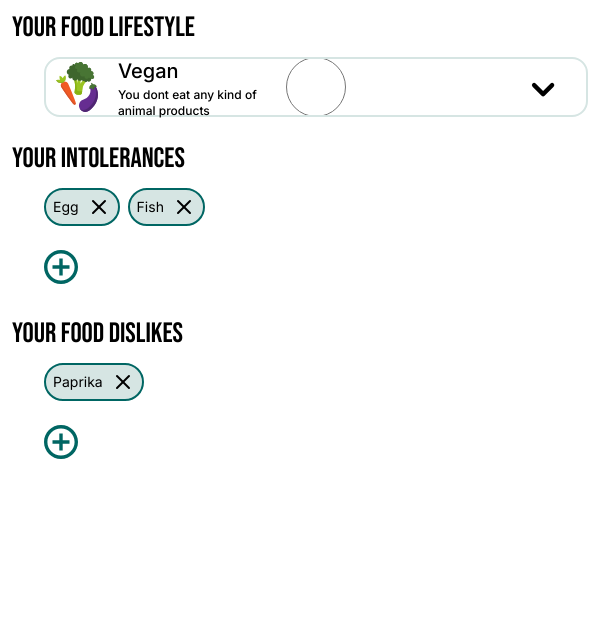
Test: WeekplanSettings › should render dropdown when user clicks on option
The image size is (605, 643).
Step 1. Click the label with test id "vegan" → (148, 71), box [44,57,588,117]
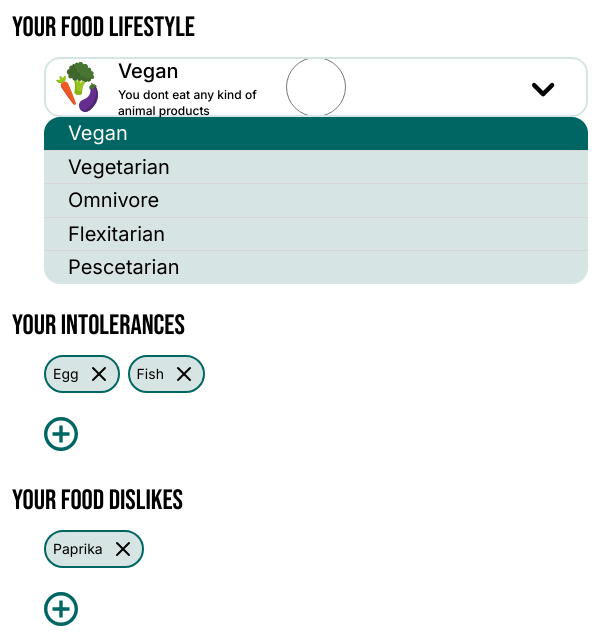
Expected: the element with test id "dropdown" is shown, [44,117,588,284]
